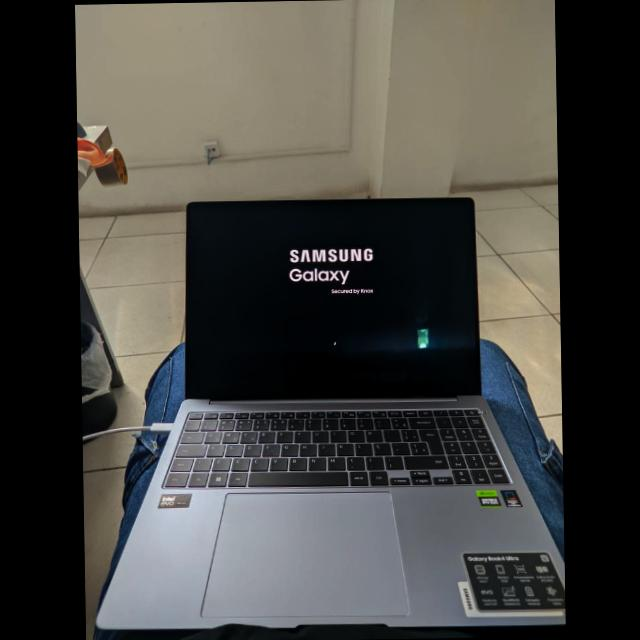laptop: (96, 197, 565, 630)
